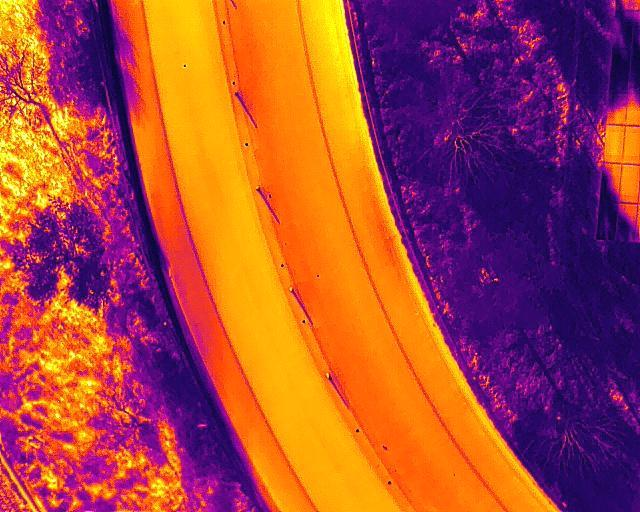No-Anomaly: (621, 163, 639, 203), (605, 124, 623, 162), (624, 124, 640, 166)
Shadowing: (600, 164, 621, 205), (618, 202, 638, 244), (599, 205, 619, 242)
